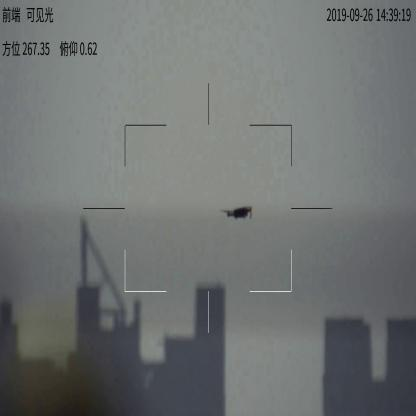uav: (220, 203, 255, 222)
